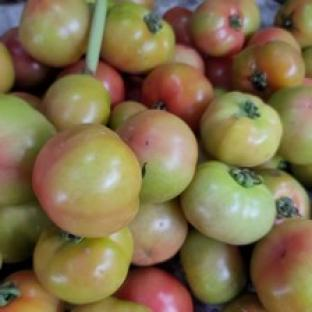Tomato: (33, 124, 142, 236), (180, 161, 275, 245), (117, 109, 197, 203), (34, 228, 133, 303), (200, 91, 282, 167), (0, 94, 55, 206), (250, 219, 311, 311), (101, 3, 175, 73), (141, 63, 213, 132), (180, 229, 247, 303), (232, 41, 305, 100), (129, 198, 188, 266), (41, 74, 111, 130), (2, 27, 54, 93), (268, 85, 311, 164), (116, 267, 193, 311), (0, 201, 50, 263), (257, 169, 310, 221), (0, 269, 64, 311), (94, 59, 125, 107), (246, 26, 300, 52), (70, 296, 151, 311), (108, 101, 147, 130), (163, 6, 192, 45), (204, 56, 232, 90), (173, 44, 204, 72), (223, 292, 267, 311), (0, 42, 15, 93), (9, 91, 41, 111), (290, 163, 311, 190), (303, 44, 311, 79)
